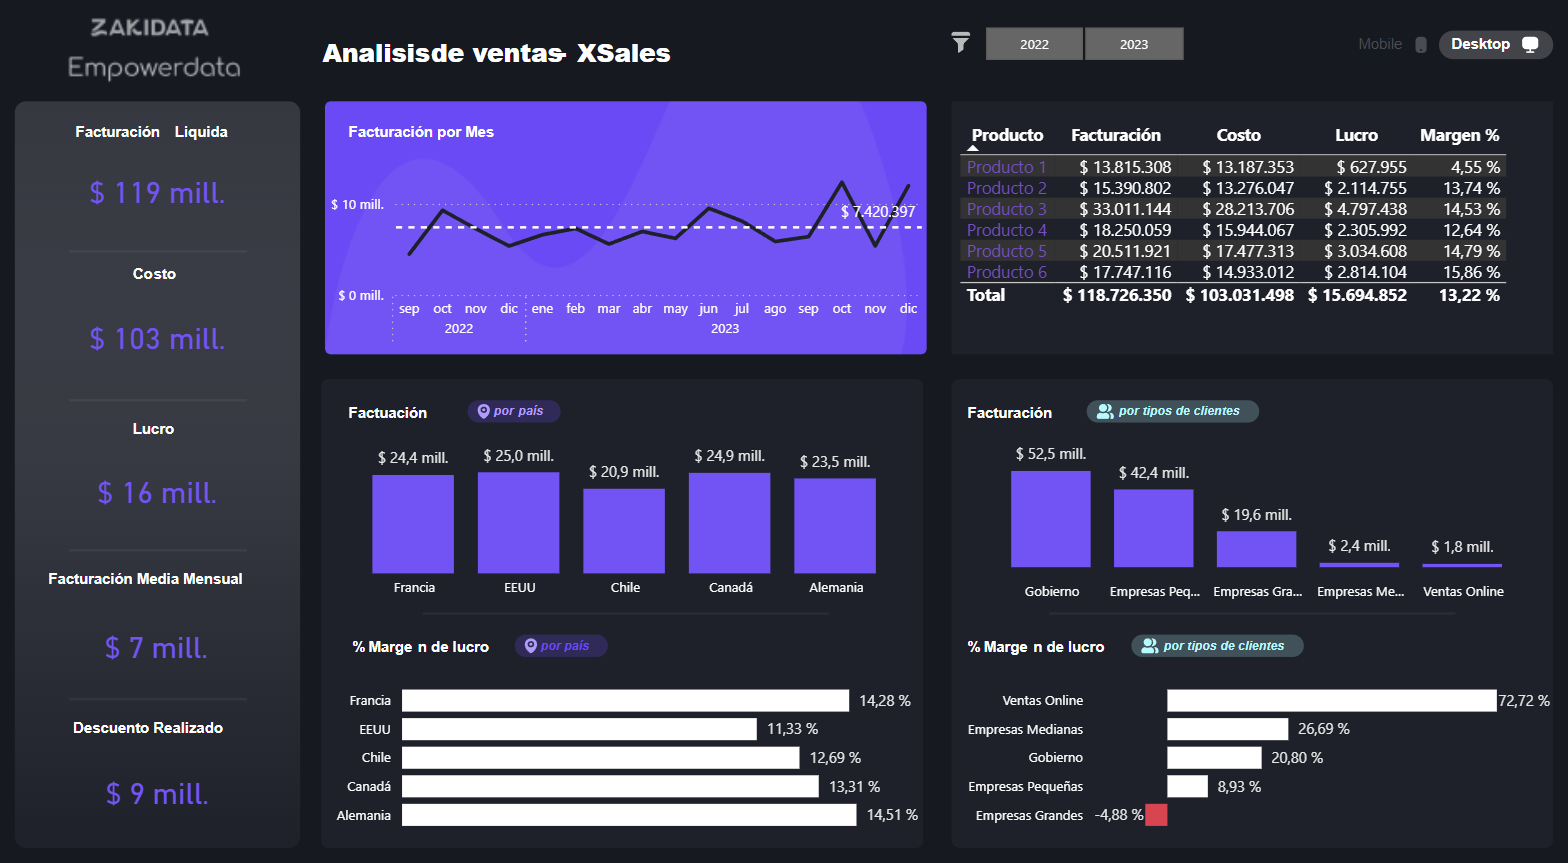

What the dashboard file says about the page in this screenshot:
{"tool":"powerbi","page":{"name":"Dashboard","canvas":[1280,720],"ordinal":0},"visuals":[{"type":"card","fields":{"Values":["Medidas.Fact_Liquida"]},"box":[20.2,129,228.8,80.6],"z":0},{"type":"card","fields":{"Values":["Medidas.Costo"]},"box":[20.2,246.9,228.8,80.6],"z":1000},{"type":"card","fields":{"Values":["Medidas.Lucro"]},"box":[20.2,370.9,228.8,80.6],"z":2000},{"type":"lineChart","fields":{"Y":["Medidas.Fact_Liquida"],"Category":["DimCalendario.Año","DimCalendario.Mes_nombre"]},"box":[269.1,129,486.8,173.4],"z":3000},{"type":"tableEx","fields":{"Values":["FactVentas.Produto","Medidas.Fact_Liquida","Medidas.Costo","Medidas.Lucro","Medidas.Margen %"]},"box":[776.1,109.9,480.8,192.5],"z":4000},{"type":"columnChart","fields":{"Y":["Medidas.Fact_Liquida"],"Category":["FactVentas.País"]},"box":[269.1,359.8,486.8,147.1],"z":5000},{"type":"columnChart","fields":{"Y":["Medidas.Fact_Liquida"],"Category":["FactVentas.Tipos de Clientes"]},"box":[773,359.8,486.8,147.1],"z":6000},{"type":"clusteredBarChart","fields":{"Y":["Medidas.Margen %"],"Category":["FactVentas.País"]},"box":[269.1,549.3,486.8,147.1],"z":7000},{"type":"clusteredBarChart","fields":{"Y":["Medidas.Margen %"],"Category":["FactVentas.Tipos de Clientes"]},"box":[776.1,549.3,486.8,147.1],"z":8000},{"type":"slicer","fields":{"Values":["DimCalendario.Año"]},"box":[777.1,30.2,208.6,40.3],"z":9000},{"type":"card","fields":{"Values":["Medidas.Descuento"]},"box":[20.3,614,229.4,80.3],"z":10000},{"type":"card","fields":{"Values":["Medidas.Facturacion_media"]},"box":[19.4,496.7,229.4,80.3],"z":11000}]}

Visuals, with their boxes in screenshot pixels (x1, y1, x2, y2), scaled from the page's 1280x720 canvas onto the 1568x863 screenshot:
card - Medidas.Fact_Liquida: (25,155,305,251)
card - Medidas.Costo: (25,296,305,393)
card - Medidas.Lucro: (25,445,305,541)
lineChart - Medidas.Fact_Liquida x DimCalendario.Año: (330,155,926,362)
tableEx - FactVentas.Produto x Medidas.Fact_Liquida: (951,132,1540,362)
columnChart - Medidas.Fact_Liquida x FactVentas.País: (330,431,926,608)
columnChart - Medidas.Fact_Liquida x FactVentas.Tipos de Clientes: (947,431,1543,608)
clusteredBarChart - Medidas.Margen % x FactVentas.País: (330,658,926,835)
clusteredBarChart - Medidas.Margen % x FactVentas.Tipos de Clientes: (951,658,1547,835)
slicer - DimCalendario.Año: (952,36,1207,85)
card - Medidas.Descuento: (25,736,306,832)
card - Medidas.Facturacion_media: (24,595,305,692)
